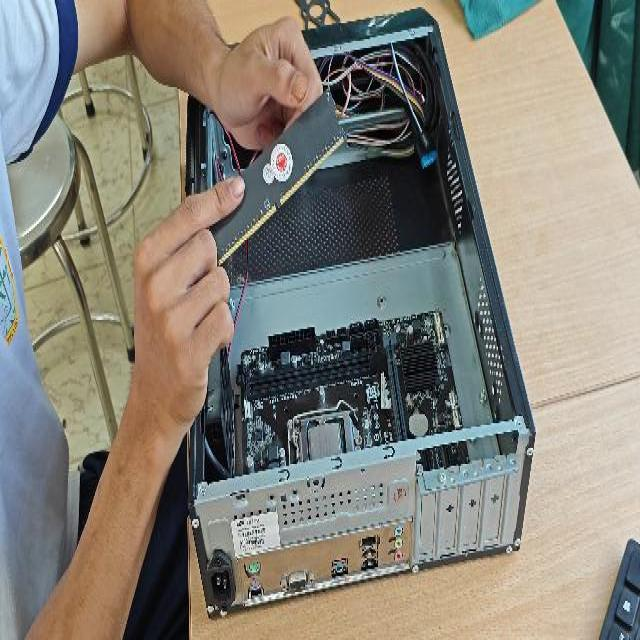CPU: (306, 420, 342, 460)
Mainboard: (239, 307, 472, 472)
RAM: (176, 86, 344, 266)
